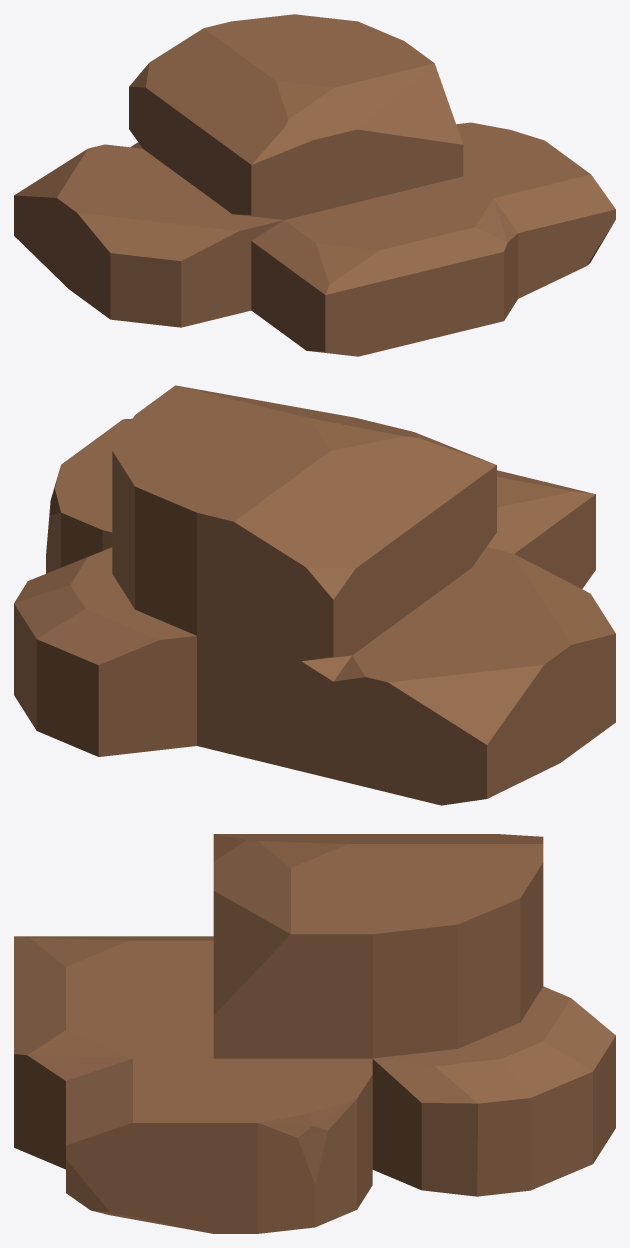
File: stones02_dirt.fbx
3 renders of one model, top to bottom at view 1: azimuth 30°, elevation 25°; view 2: azimuth 150°, elevation 25°; view 3: azimuth 270°, elevation 25°, orthographic. The views are drawn at different scales.
Visible parts, largest first — view 1: stones02_dirt_LOD0; view 2: stones02_dirt_LOD0; view 3: stones02_dirt_LOD0.
Boxes of the visible parts, x1,y1,x2,y2 form: stones02_dirt_LOD0: (14, 14, 615, 356); stones02_dirt_LOD0: (14, 385, 615, 805); stones02_dirt_LOD0: (14, 834, 615, 1233).
Size of what is drawn, in the model's own units: 200 by 78.71 by 182.
